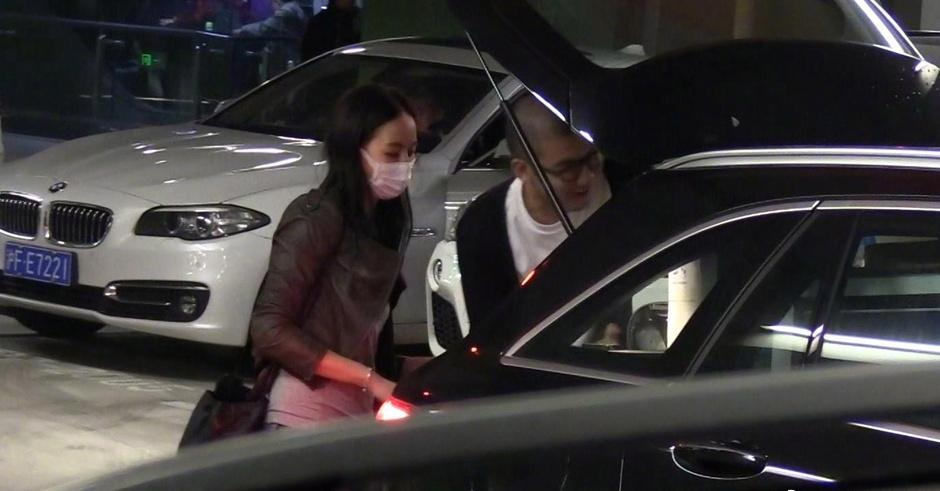Mask: (361, 133, 427, 198)
